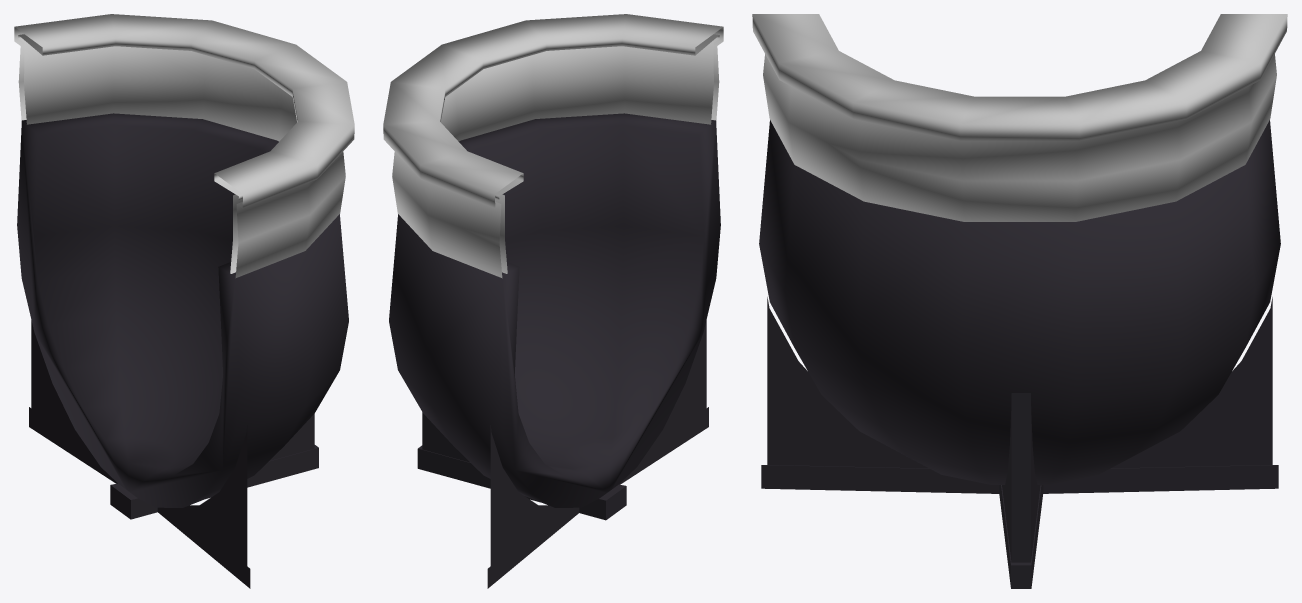
Rendered from Mitadmate.fbx.
The picture shows the model from 3 angles, left to right: view 1: azimuth 30°, elevation 25°; view 2: azimuth 150°, elevation 25°; view 3: azimuth 270°, elevation 25°; orthographic projection. The views are drawn at different scales.
Parts seen in each view (by area): view 1: base2.007, base2.005, base2.004; view 2: base2.007, base2.005, base2.004; view 3: base2.007, base2.005, base2.004.
Boxes of the visible parts, box(x1,y1,x2,y2) form: base2.007: box(17, 113, 348, 507); base2.005: box(14, 14, 354, 278); base2.004: box(29, 320, 318, 588); base2.007: box(389, 113, 720, 507); base2.005: box(383, 14, 723, 278); base2.004: box(417, 320, 708, 588); base2.007: box(759, 120, 1280, 484); base2.005: box(752, 14, 1287, 221); base2.004: box(761, 297, 1278, 588).
Size of the model in its own units: 82.35 by 157 by 163.
